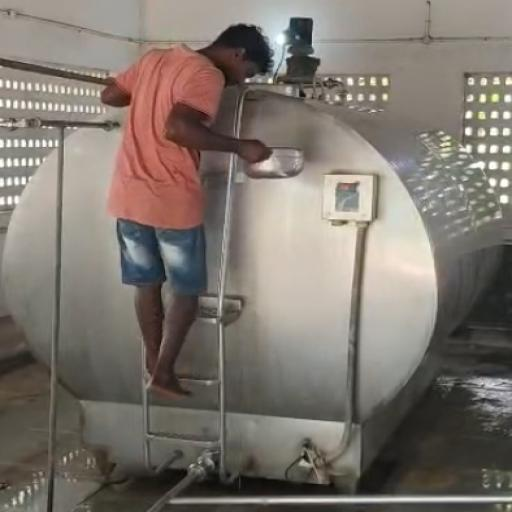silo: (2, 81, 506, 480)
vessel: (242, 146, 305, 179)
